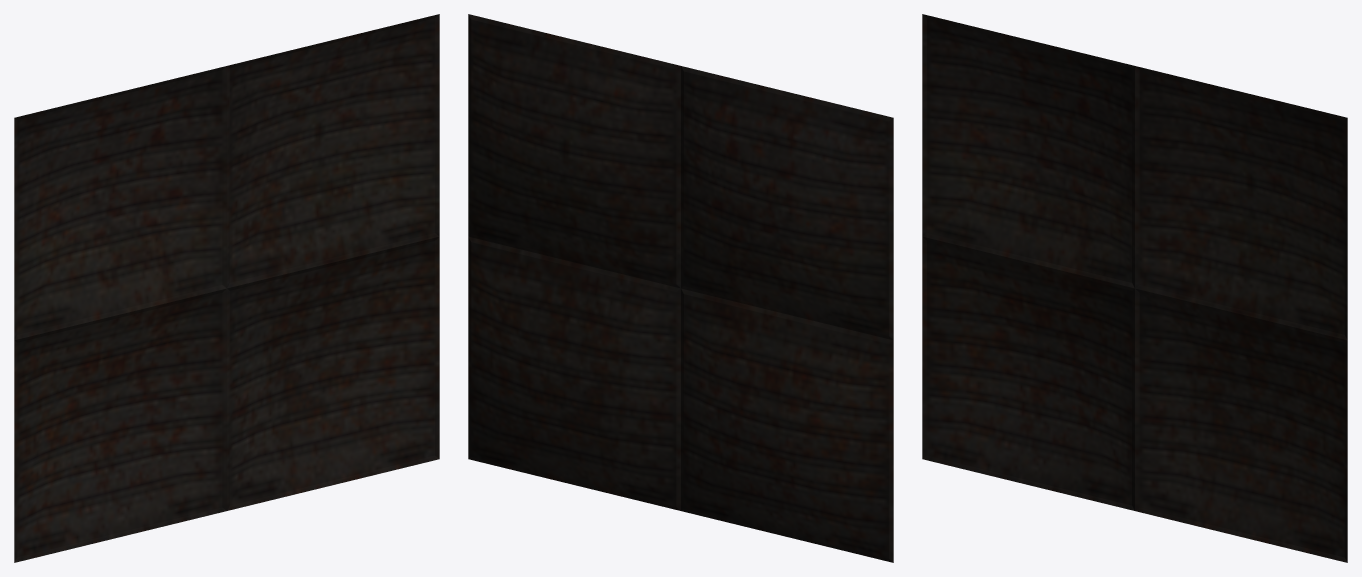
The model's file is wall_8.obj.
The picture shows the model from 3 angles, left to right: view 1: azimuth 30°, elevation 25°; view 2: azimuth 150°, elevation 25°; view 3: azimuth 330°, elevation 25°; orthographic projection.
Visible parts, largest first — view 1: wall_8; view 2: wall_8; view 3: wall_8.
Boxes of the visible parts, left/top/right/bottom form: wall_8: left=14, top=14, right=439, bottom=562; wall_8: left=468, top=14, right=893, bottom=562; wall_8: left=922, top=14, right=1347, bottom=562.
Bounding box in the file's own units: 2 × 2 × 0.1.
